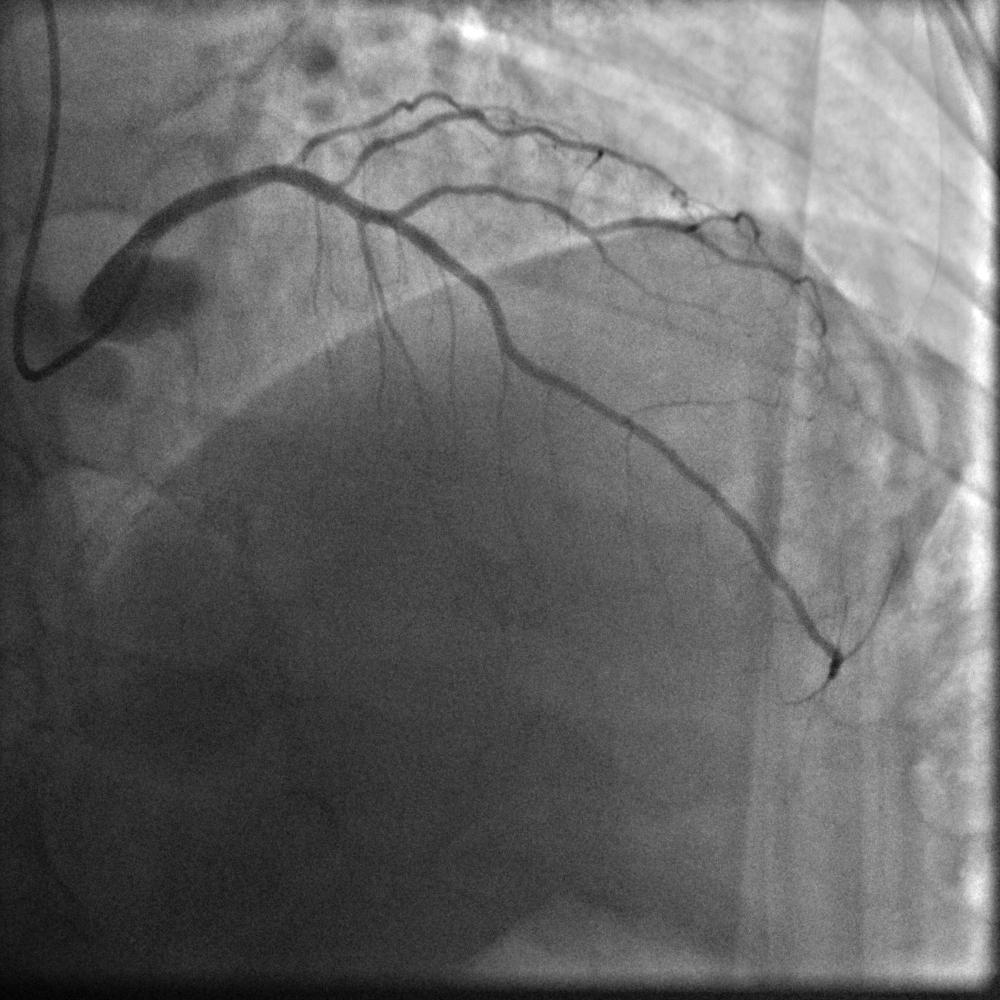Stenosis: (276, 134, 365, 191)
